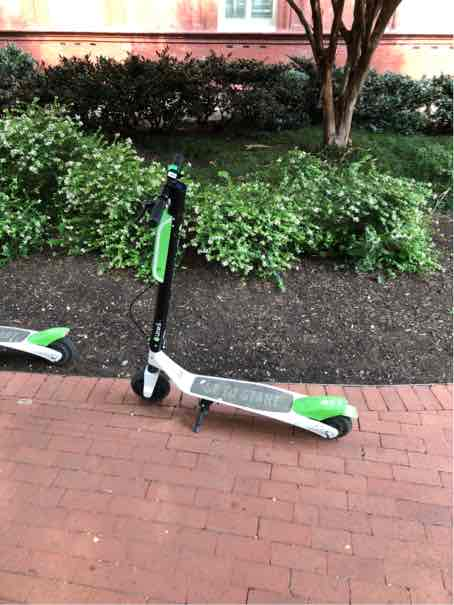scooter: (126, 142, 357, 443)
